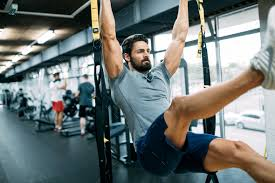white_male: (121, 38, 156, 72)
